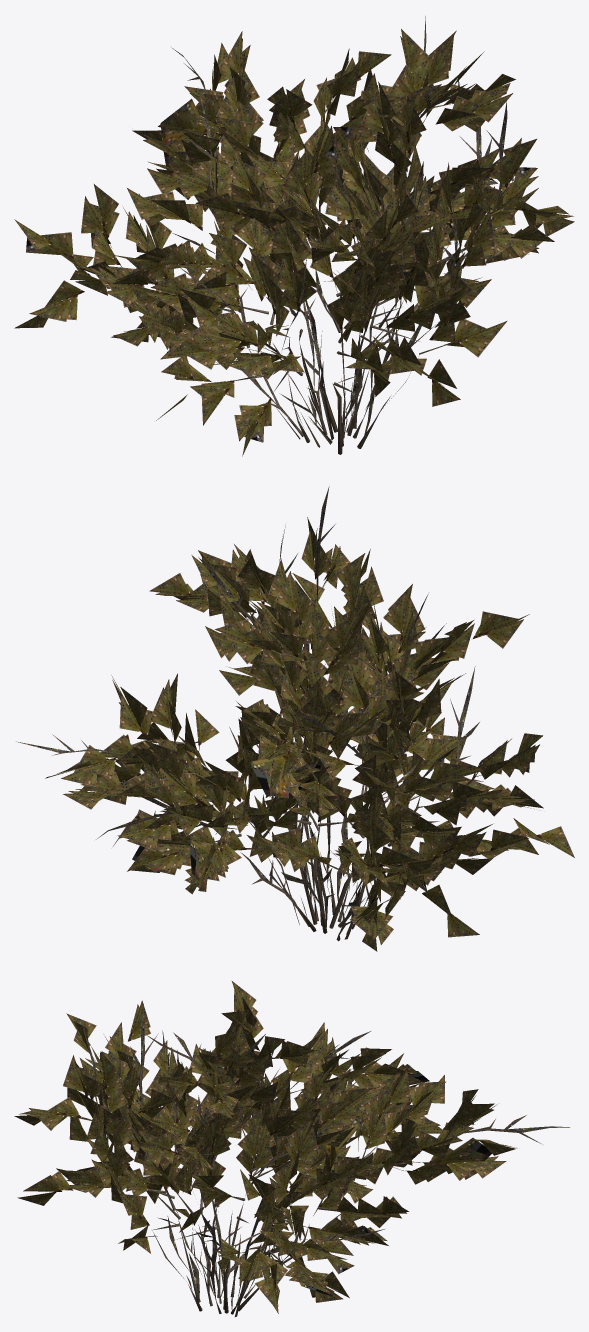
File: ph-wild-rooibos-bush.lod1.glb
3 renders of one model, top to bottom at view 1: azimuth 30°, elevation 25°; view 2: azimuth 150°, elevation 25°; view 3: azimuth 270°, elevation 25°, orthographic. The views are drawn at different scales.
Visible parts, largest first — view 1: wild_rooibos_bush_a; view 2: wild_rooibos_bush_a; view 3: wild_rooibos_bush_a.
Part boxes in pixels (<box>): wild_rooibos_bush_a: <box>14,16,574,456</box>; wild_rooibos_bush_a: <box>16,486,574,951</box>; wild_rooibos_bush_a: <box>14,981,569,1316</box>.
Bounding box in the file's own units: 0.6852 × 0.533 × 0.8279.
2 materials, 2 textured.
